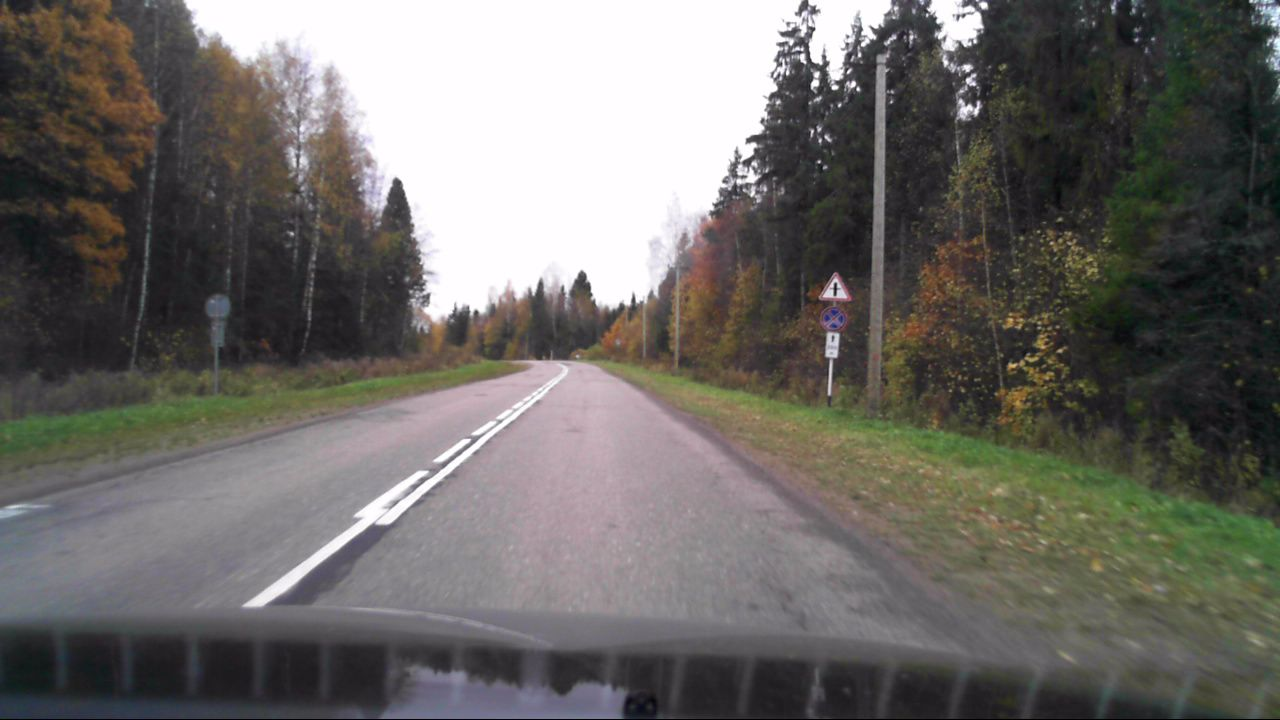No Parking: (819, 306, 846, 330)
